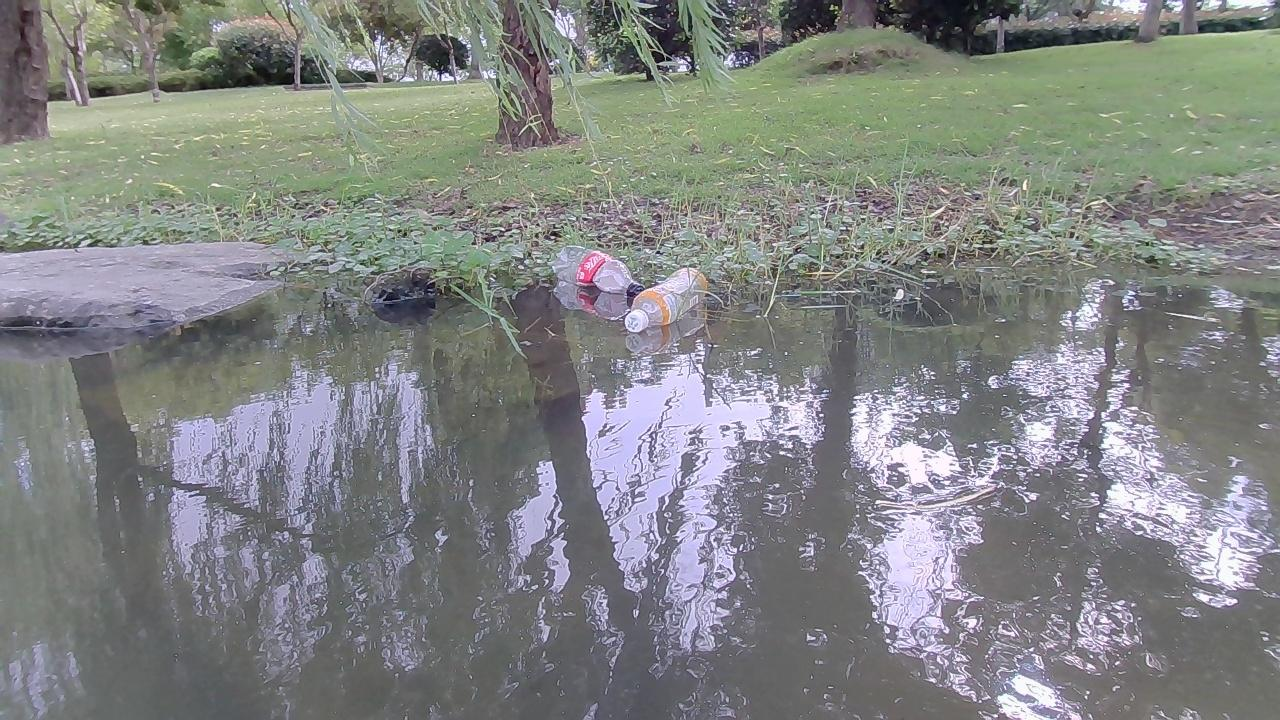bottle: (547, 236, 646, 294), (623, 268, 711, 333)
